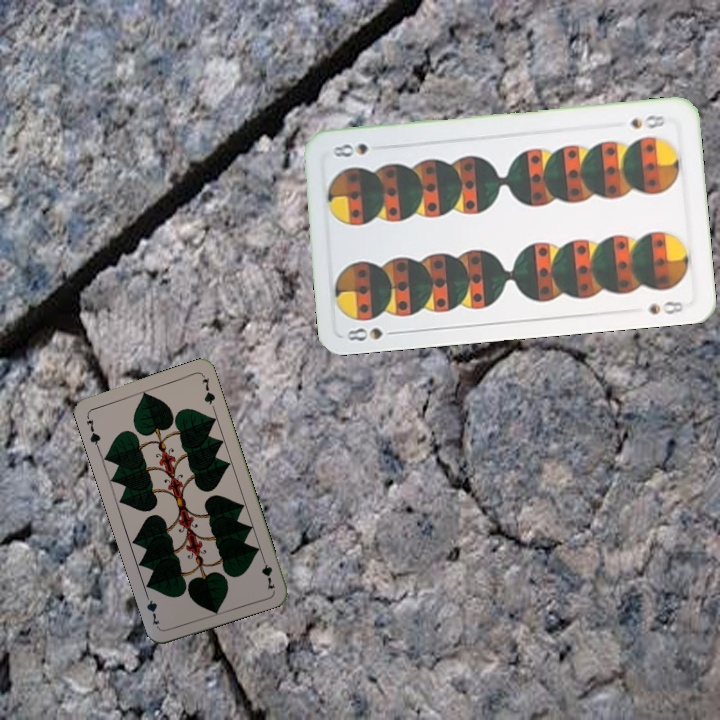G7: (82, 411, 103, 451), (258, 552, 278, 592)
S8: (342, 324, 402, 344), (626, 111, 670, 131)
